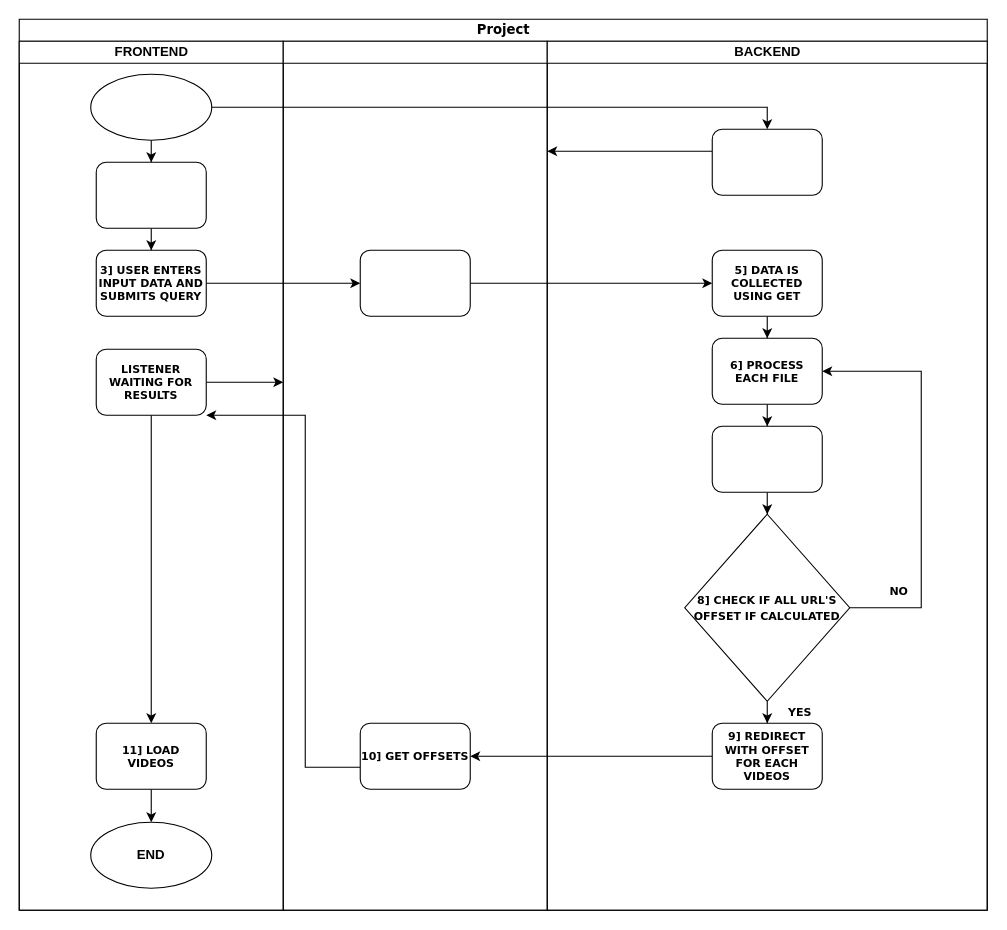
Image size: 1007x930. Some labels were removed from this diagram. The shapes that lost their labels are listed below. From the top down, each one's box as (x1, y1, x2, y2) in pixels, then its label:
(90, 73, 212, 140): START
(711, 128, 822, 195): 1] SERVER IS LOADED USING FLASK
(95, 161, 206, 228): 2] LAYOUT IS LOADED
(359, 249, 470, 316): 4] THE INPUT ARE PASSED AND URL ARE PROCESSED
(282, 40, 547, 910): @app.route API
(711, 425, 822, 492): 7] ALIGN FILES
